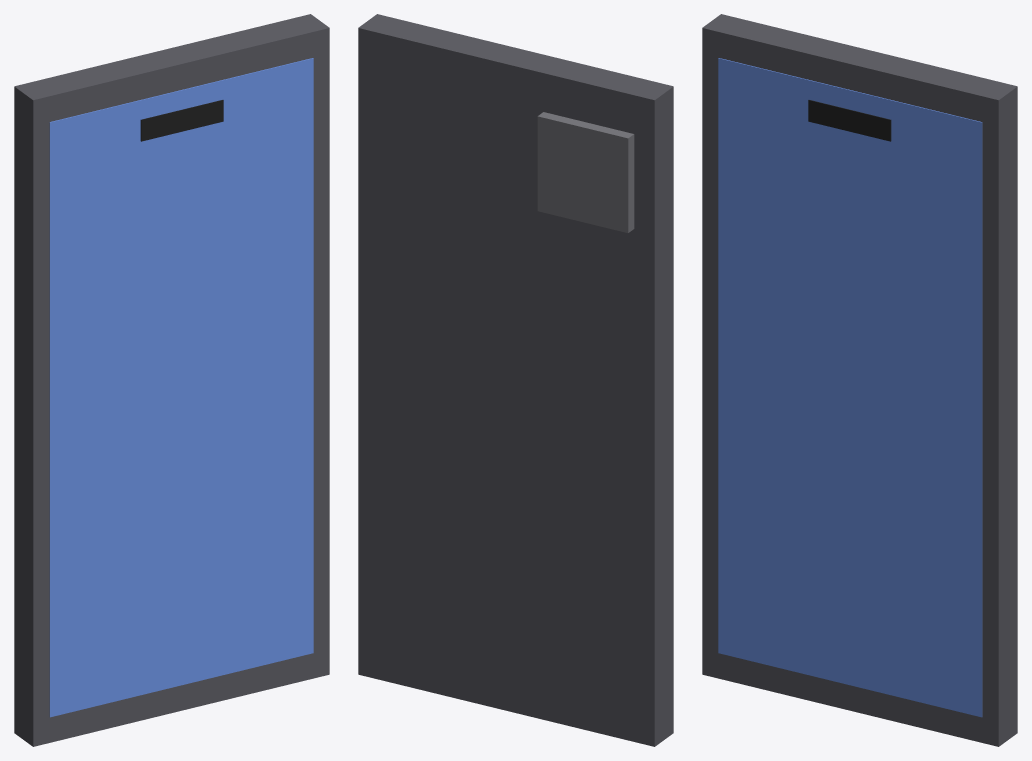
The model's file is phone.glb.
3 views of the same model, side by side, from view 1: azimuth 30°, elevation 25°; view 2: azimuth 150°, elevation 25°; view 3: azimuth 330°, elevation 25° (orthographic).
Parts seen in each view (by area): view 1: screen, body, island; view 2: body, camera; view 3: screen, body, island.
Boxes of the visible parts, <box> form: screen: <box>49,58,313,717</box>; body: <box>14,14,329,746</box>; island: <box>140,100,223,141</box>; body: <box>358,14,673,746</box>; camera: <box>537,112,634,232</box>; screen: <box>718,58,982,717</box>; body: <box>702,14,1017,746</box>; island: <box>808,100,891,141</box>.
Size of the model in its own units: 0.72 by 1.5 by 0.109.
